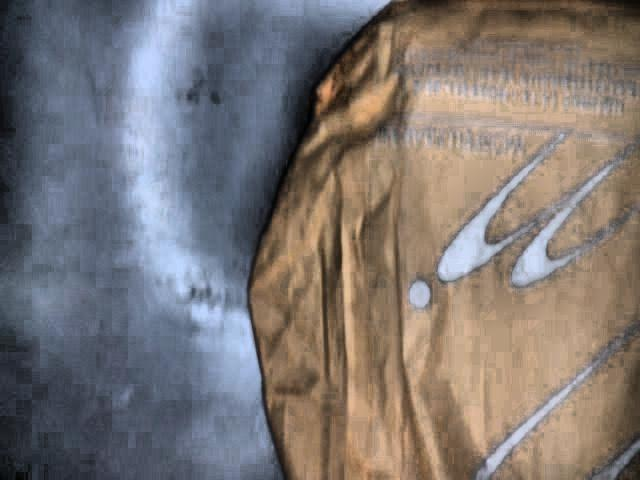Paper: (245, 0, 640, 480)
